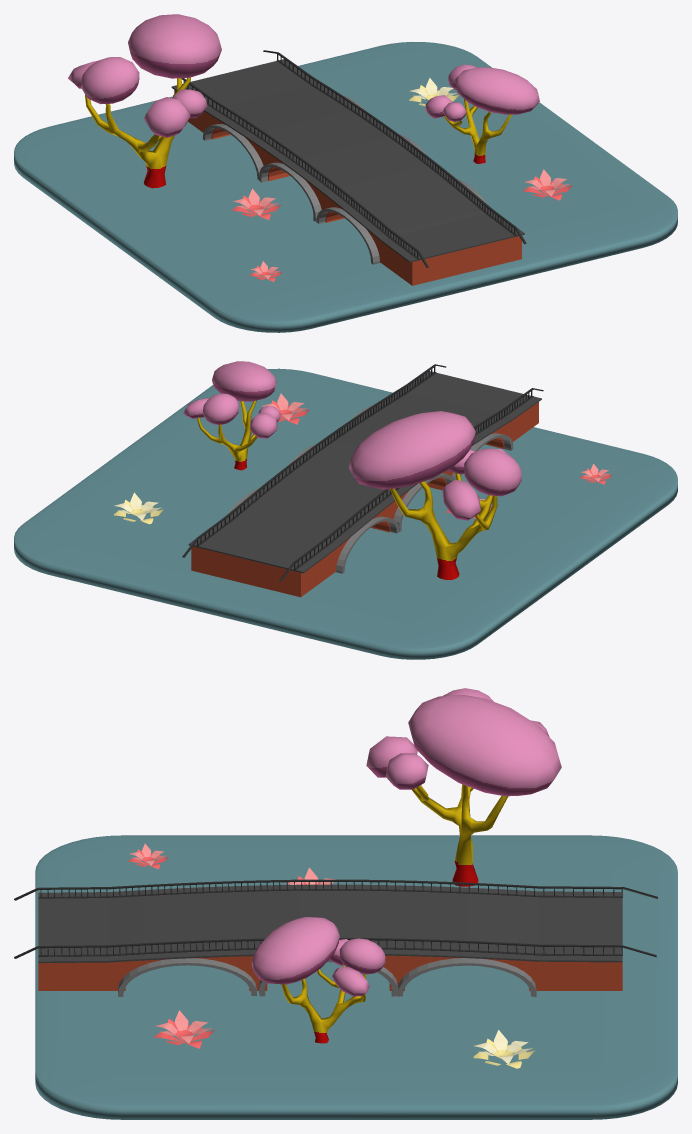
The model's file is bridge.glb.
The picture shows the model from 3 angles, top to bottom: view 1: azimuth 30°, elevation 25°; view 2: azimuth 150°, elevation 25°; view 3: azimuth 270°, elevation 25°; orthographic projection. The views are drawn at different scales.
Parts seen in each view (by area): view 1: Cube.002, Cylinder, Tree.014, Tree.001, Flowers.001, Flowers.007, Flowers.008; view 2: Cube.002, Cylinder, Tree.014, Tree.001, Flowers.008, Flowers.007; view 3: Cube.002, Cylinder, Tree.014, Tree.001, Flowers.007, Flowers.008.
Boxes of the visible parts, x1,y1,x2,y2 form: Cube.002: [14, 42, 677, 332]; Cylinder: [171, 50, 526, 285]; Tree.014: [68, 14, 221, 188]; Tree.001: [425, 64, 539, 163]; Flowers.001: [231, 188, 280, 219]; Flowers.007: [522, 169, 572, 200]; Flowers.008: [409, 78, 459, 106]; Cube.002: [14, 368, 677, 659]; Cylinder: [182, 364, 543, 597]; Tree.014: [349, 411, 521, 580]; Tree.001: [183, 361, 280, 470]; Flowers.008: [114, 492, 163, 524]; Flowers.007: [261, 393, 309, 424]; Cube.002: [35, 835, 677, 1119]; Cylinder: [14, 879, 657, 996]; Tree.014: [366, 688, 561, 886]; Tree.001: [251, 917, 385, 1043]; Flowers.007: [153, 1010, 214, 1048]; Flowers.008: [473, 1030, 534, 1068].
Size of the model in its own units: 20 by 7.06 by 20.66.
11 materials, 6 textured.
